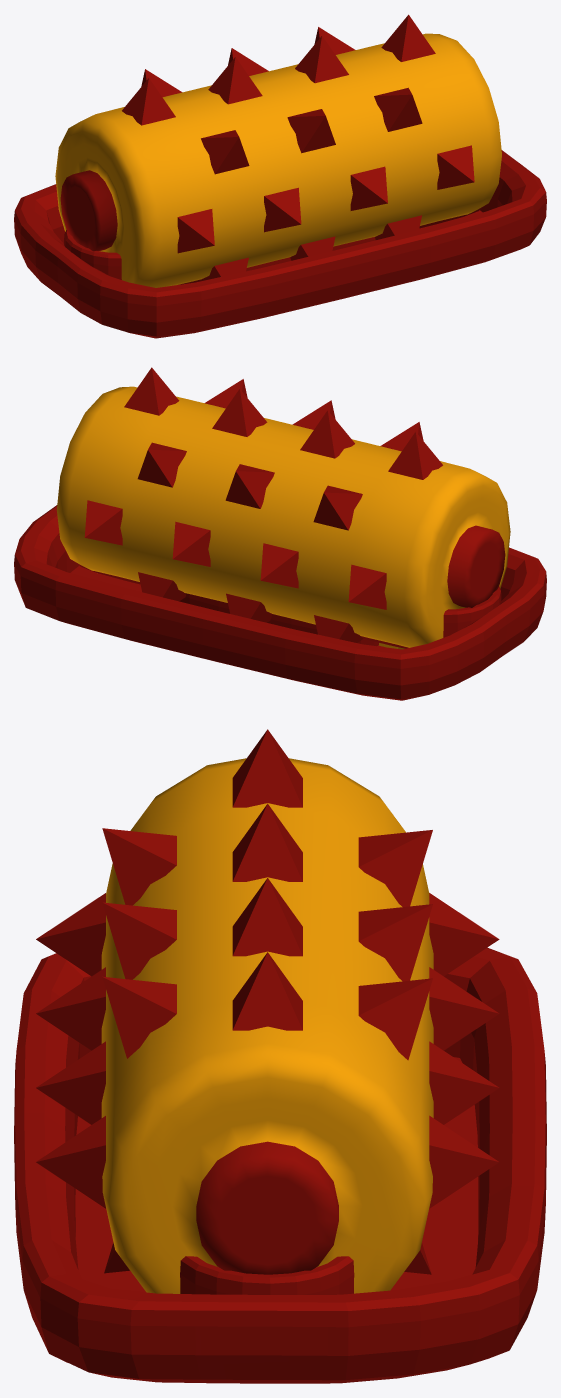
File: obstacles revisited.fbx
3 views of the same model, one above another, from view 1: azimuth 30°, elevation 25°; view 2: azimuth 150°, elevation 25°; view 3: azimuth 270°, elevation 25° (orthographic). The views are drawn at different scales.
Visible parts, largest first — view 1: TorpuKnife, Torpu, Saw2, Saw1; view 2: TorpuKnife, Torpu, Saw2, Saw1; view 3: TorpuKnife, Torpu, Saw2.
Boxes of the visible parts, <box> form: TorpuKnife: <box>55,14,501,287</box>; Torpu: <box>14,150,546,338</box>; Saw2: <box>64,205,485,284</box>; Saw1: <box>246,237,375,271</box>; TorpuKnife: <box>56,367,510,647</box>; Torpu: <box>14,505,546,700</box>; Saw2: <box>74,561,501,648</box>; Saw1: <box>179,593,378,646</box>; TorpuKnife: <box>36,729,499,1293</box>; Torpu: <box>14,947,546,1383</box>; Saw2: <box>180,1256,354,1294</box>.
Bounding box in the file's own units: 443 × 241 × 260.
